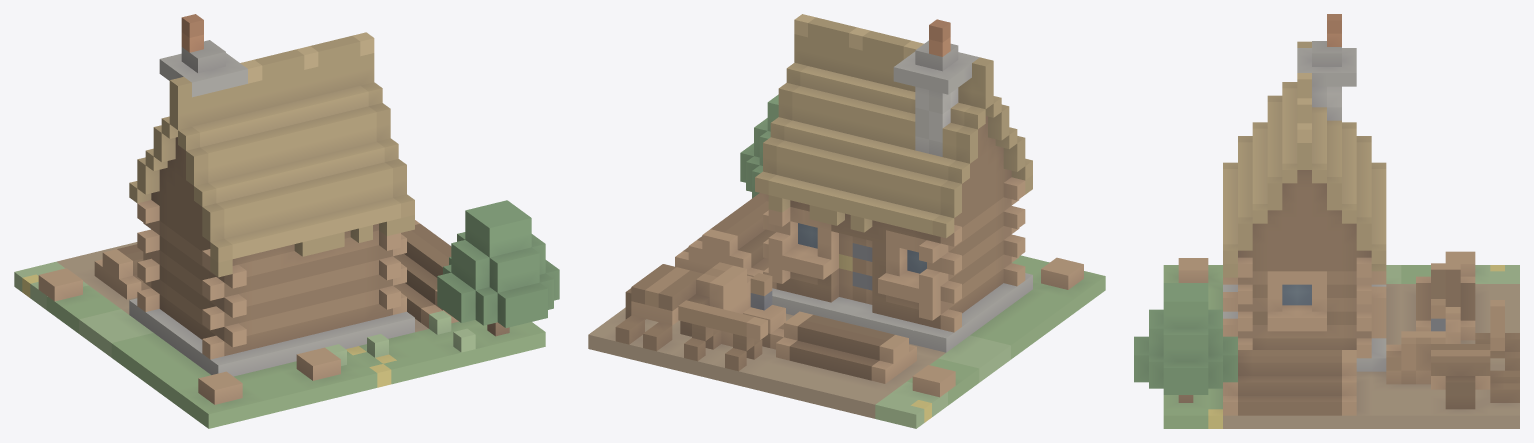
The model's file is lumberjack.glb.
3 renders of one model, left to right at view 1: azimuth 30°, elevation 25°; view 2: azimuth 150°, elevation 25°; view 3: azimuth 270°, elevation 25°, orthographic. The views are drawn at different scales.
Parts seen in each view (by area): view 1: lumberjack; view 2: lumberjack; view 3: lumberjack.
Part boxes in pixels (x1,y1,x2,y2): lumberjack: (14, 14, 559, 428); lumberjack: (588, 14, 1105, 428); lumberjack: (1134, 14, 1519, 428).
Size of the model in its own units: 3.12 by 2.75 by 3.25.
